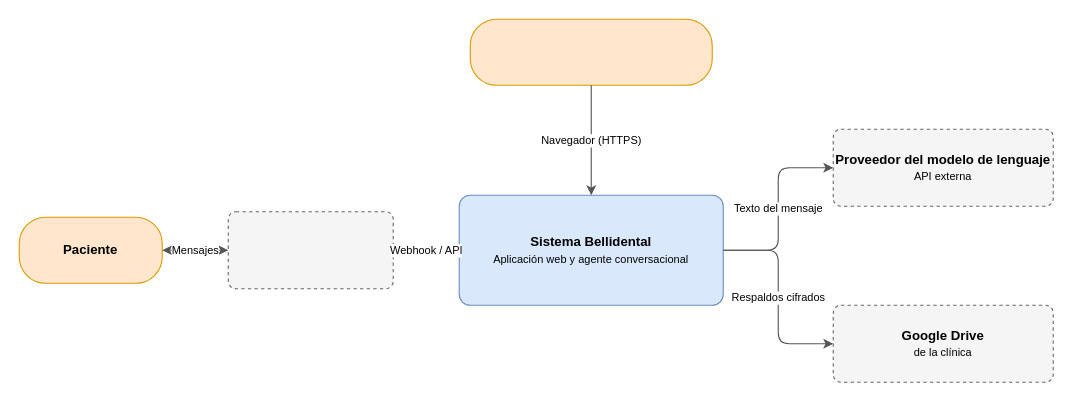
The diagram is 1073 pixels wide and 402 high, and some of its shapes have lost their labels. Here are the shapes that lost their labels. From the top down, the box of each, then its label:
(469, 18, 712, 85): Personal de la clínica Secretaria · Odontólogo · Director
(227, 211, 393, 289): WhatsApp Meta, Cloud API
